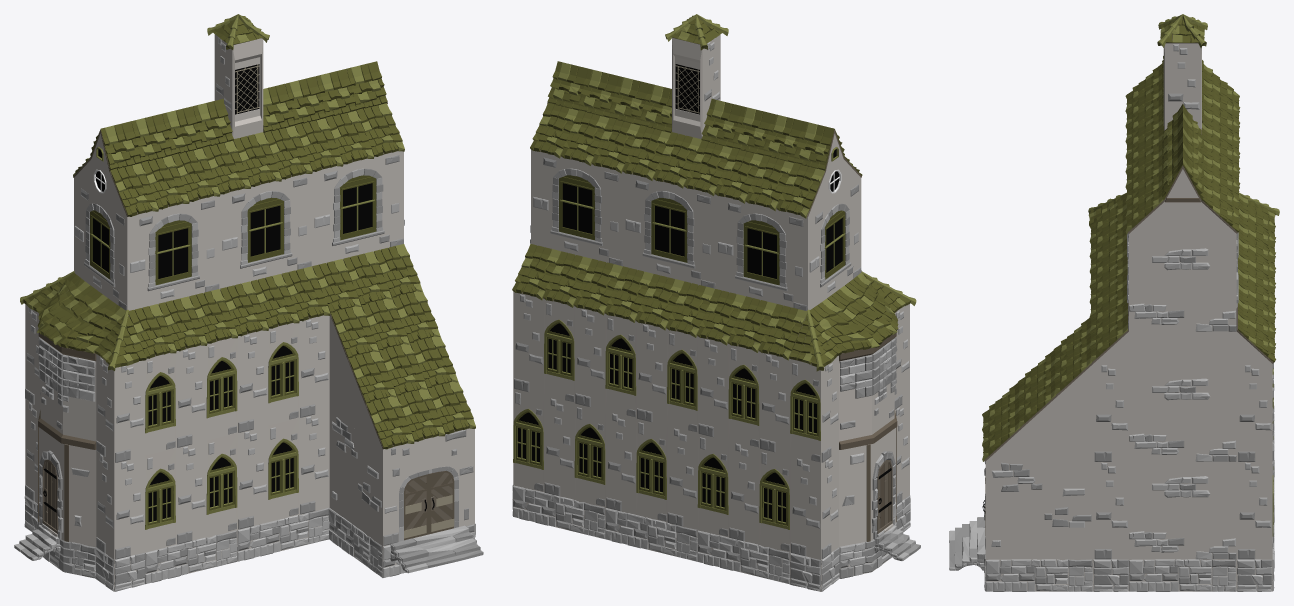
The model's file is HOUSE_8.fbx.
3 views of the same model, side by side, from view 1: azimuth 30°, elevation 25°; view 2: azimuth 150°, elevation 25°; view 3: azimuth 270°, elevation 25° (orthographic).
Parts seen in each view (by area): view 1: DOOR_02_3, WINDOW_05_12, WINDOW_05_11, WINDOW_05_10, BALKON_04_2, BALKON_02_2, WALL_01_2, WINDOW_05_13, ROOF_base_round_2, WINDOW_01_03, WALL_06_5, WALL_06_3 (+66 smaller); view 2: WINDOW_05_14, WINDOW_05_15, WINDOW_05_16, BALKON_04_2, BALKON_02_2, WINDOW_05_13, ROOF_base_round_2, WALL_06_25, WALL_06_23, WINDOW_01_11, WINDOW_01_13, WALL_06_22 (+58 smaller); view 3: WALL_01_3, WALL_03_2, WALL_03_3, WALL_03_4, WALL_06_17, WALL_06_16, FOUNDATION_03_10, FOUNDATION_03_9, WALL_06_18, WALL_06_15, WALL_06_33, STAIRS_04_3 (+65 smaller).
Part boxes in pixels (box(x1,y1,x2,y2)): DOOR_02_3: box(383, 428, 474, 545); WINDOW_05_12: box(311, 151, 403, 266); WINDOW_05_11: box(219, 173, 311, 289); WINDOW_05_10: box(127, 196, 219, 310); BALKON_04_2: box(38, 426, 96, 546); BALKON_02_2: box(38, 332, 96, 449); WALL_01_2: box(329, 411, 382, 545); WINDOW_05_13: box(74, 178, 128, 310); ROOF_base_round_2: box(37, 272, 125, 353); WINDOW_01_03: box(206, 433, 237, 536); WALL_06_5: box(175, 440, 206, 544); WALL_06_3: box(298, 410, 329, 514); WINDOW_05_14: box(715, 195, 808, 310); WINDOW_05_15: box(623, 172, 715, 289); WINDOW_05_16: box(531, 149, 623, 266); BALKON_04_2: box(839, 427, 896, 546); BALKON_02_2: box(839, 333, 897, 449); WINDOW_05_13: box(808, 178, 861, 309); ROOF_base_round_2: box(809, 272, 898, 353); WALL_06_25: box(605, 410, 636, 514); WALL_06_23: box(728, 440, 759, 544); WINDOW_01_11: box(759, 448, 790, 551); WINDOW_01_13: box(636, 418, 667, 521); WALL_06_22: box(759, 352, 790, 455); WALL_01_3: box(985, 461, 1093, 558); WALL_03_2: box(1129, 461, 1236, 559); WALL_03_3: box(1129, 364, 1236, 461); WALL_03_4: box(1129, 234, 1236, 331); WALL_06_17: box(1236, 364, 1272, 461); WALL_06_16: box(1236, 461, 1272, 559); FOUNDATION_03_10: box(985, 559, 1093, 591); FOUNDATION_03_9: box(1129, 559, 1236, 591); WALL_06_18: box(1093, 364, 1128, 461); WALL_06_15: box(1093, 461, 1128, 559); WALL_06_33: box(1165, 43, 1200, 129); STAIRS_04_3: box(949, 517, 985, 570).
Bounding box in the file's own units: 1158 × 1566 × 922.
